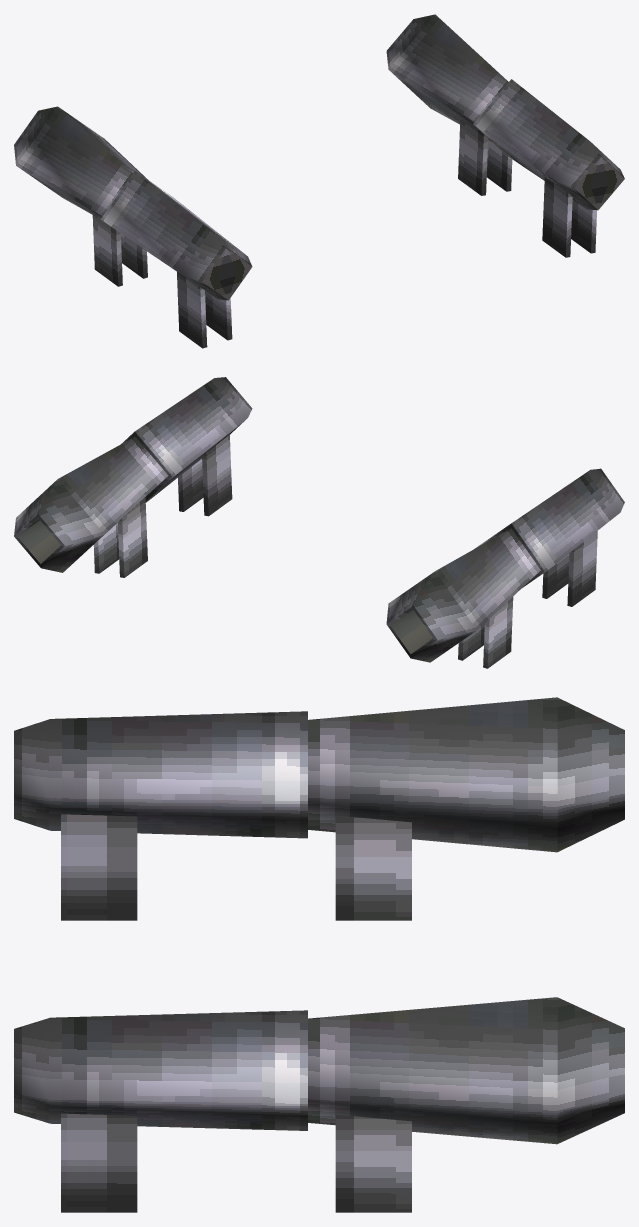
File: awing_booster_s02_l2.fbx
3 renders of one model, top to bottom at view 1: azimuth 30°, elevation 25°; view 2: azimuth 150°, elevation 25°; view 3: azimuth 270°, elevation 25°, orthographic. The views are drawn at different scales.
Visible parts, largest first — view 1: mesh_node; view 2: mesh_node; view 3: mesh_node.
Boxes of the visible parts, x1,y1,x2,y2 form: mesh_node: [14, 14, 624, 348]; mesh_node: [14, 377, 624, 668]; mesh_node: [14, 697, 624, 1212].
Bounding box in the file's own units: 3.73 × 0.9938 × 2.63.
Materials: 1 (1 with a texture image).
